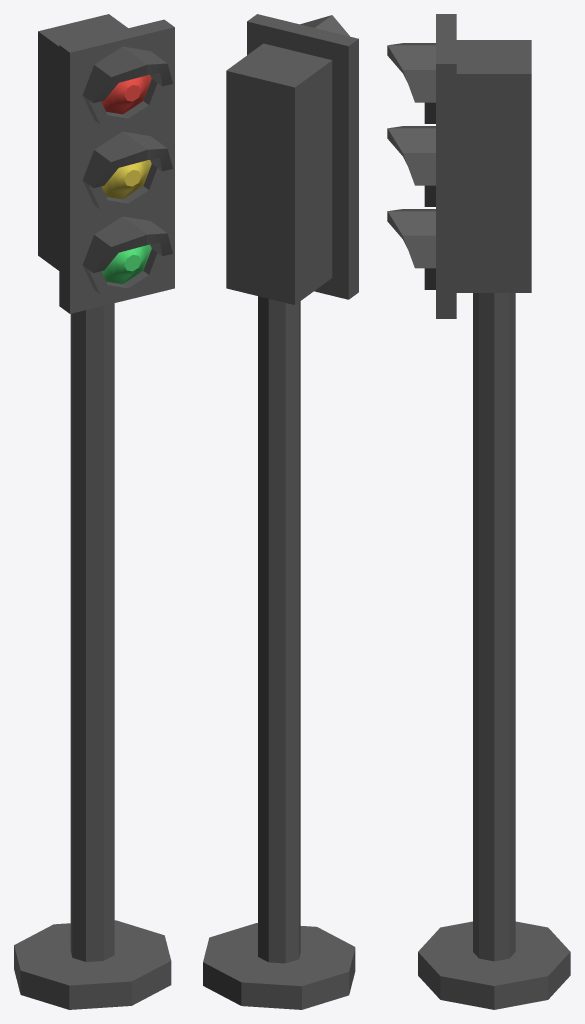
The model's file is traffic-lights-single.fbx.
3 renders of one model, left to right at view 1: azimuth 30°, elevation 25°; view 2: azimuth 150°, elevation 25°; view 3: azimuth 270°, elevation 25°, orthographic. The views are drawn at different scales.
Parts seen in each view (by area): view 1: 4.1 traffic-lights-single; view 2: 4.1 traffic-lights-single; view 3: 4.1 traffic-lights-single.
Part boxes in pixels (bbox=[...]): 4.1 traffic-lights-single: bbox=[14, 14, 174, 1009]; 4.1 traffic-lights-single: bbox=[203, 14, 358, 1009]; 4.1 traffic-lights-single: bbox=[387, 14, 570, 1009].
Size of the model in its own units: 0.747 by 4.75 by 0.8415.
